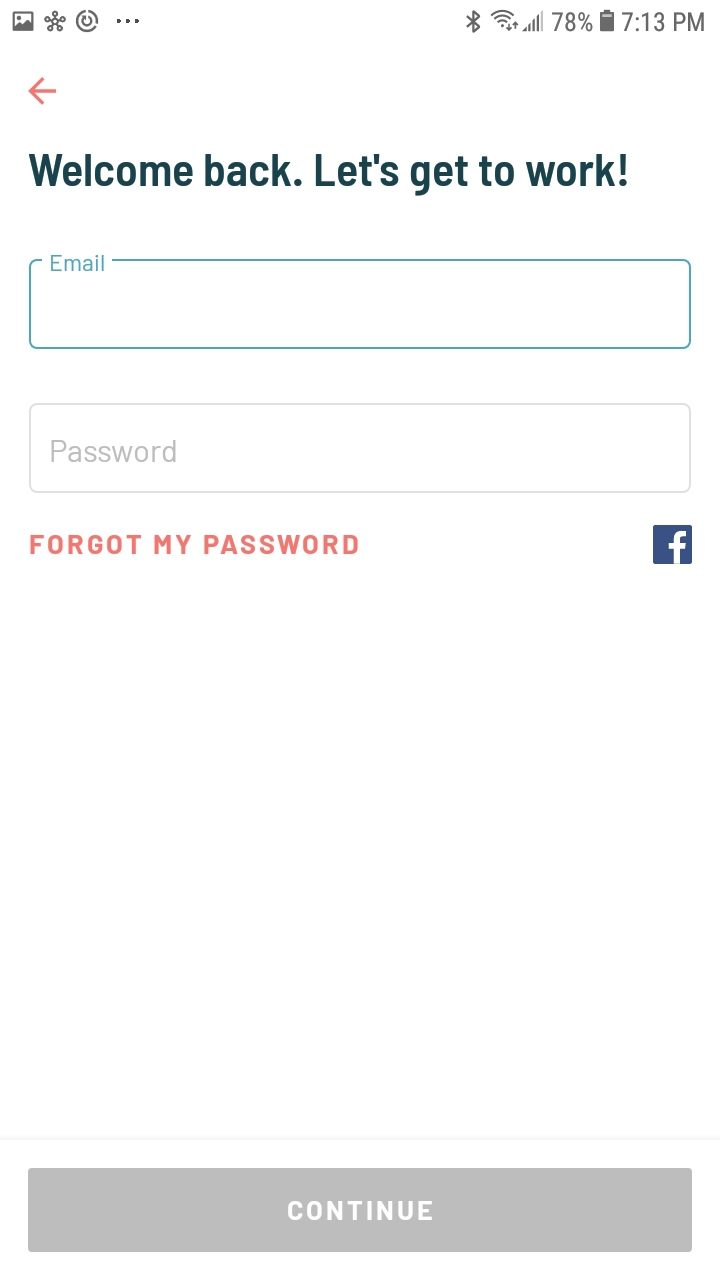EditText: (29, 255, 691, 350), (29, 403, 691, 494)
Icon: (653, 525, 693, 565), (28, 77, 57, 106)
Text: (29, 154, 628, 198), (30, 534, 358, 555), (51, 440, 177, 463), (52, 255, 106, 273)
TextButton: (28, 1168, 692, 1253)
UpperTaskBar: (1, 1, 720, 35)
